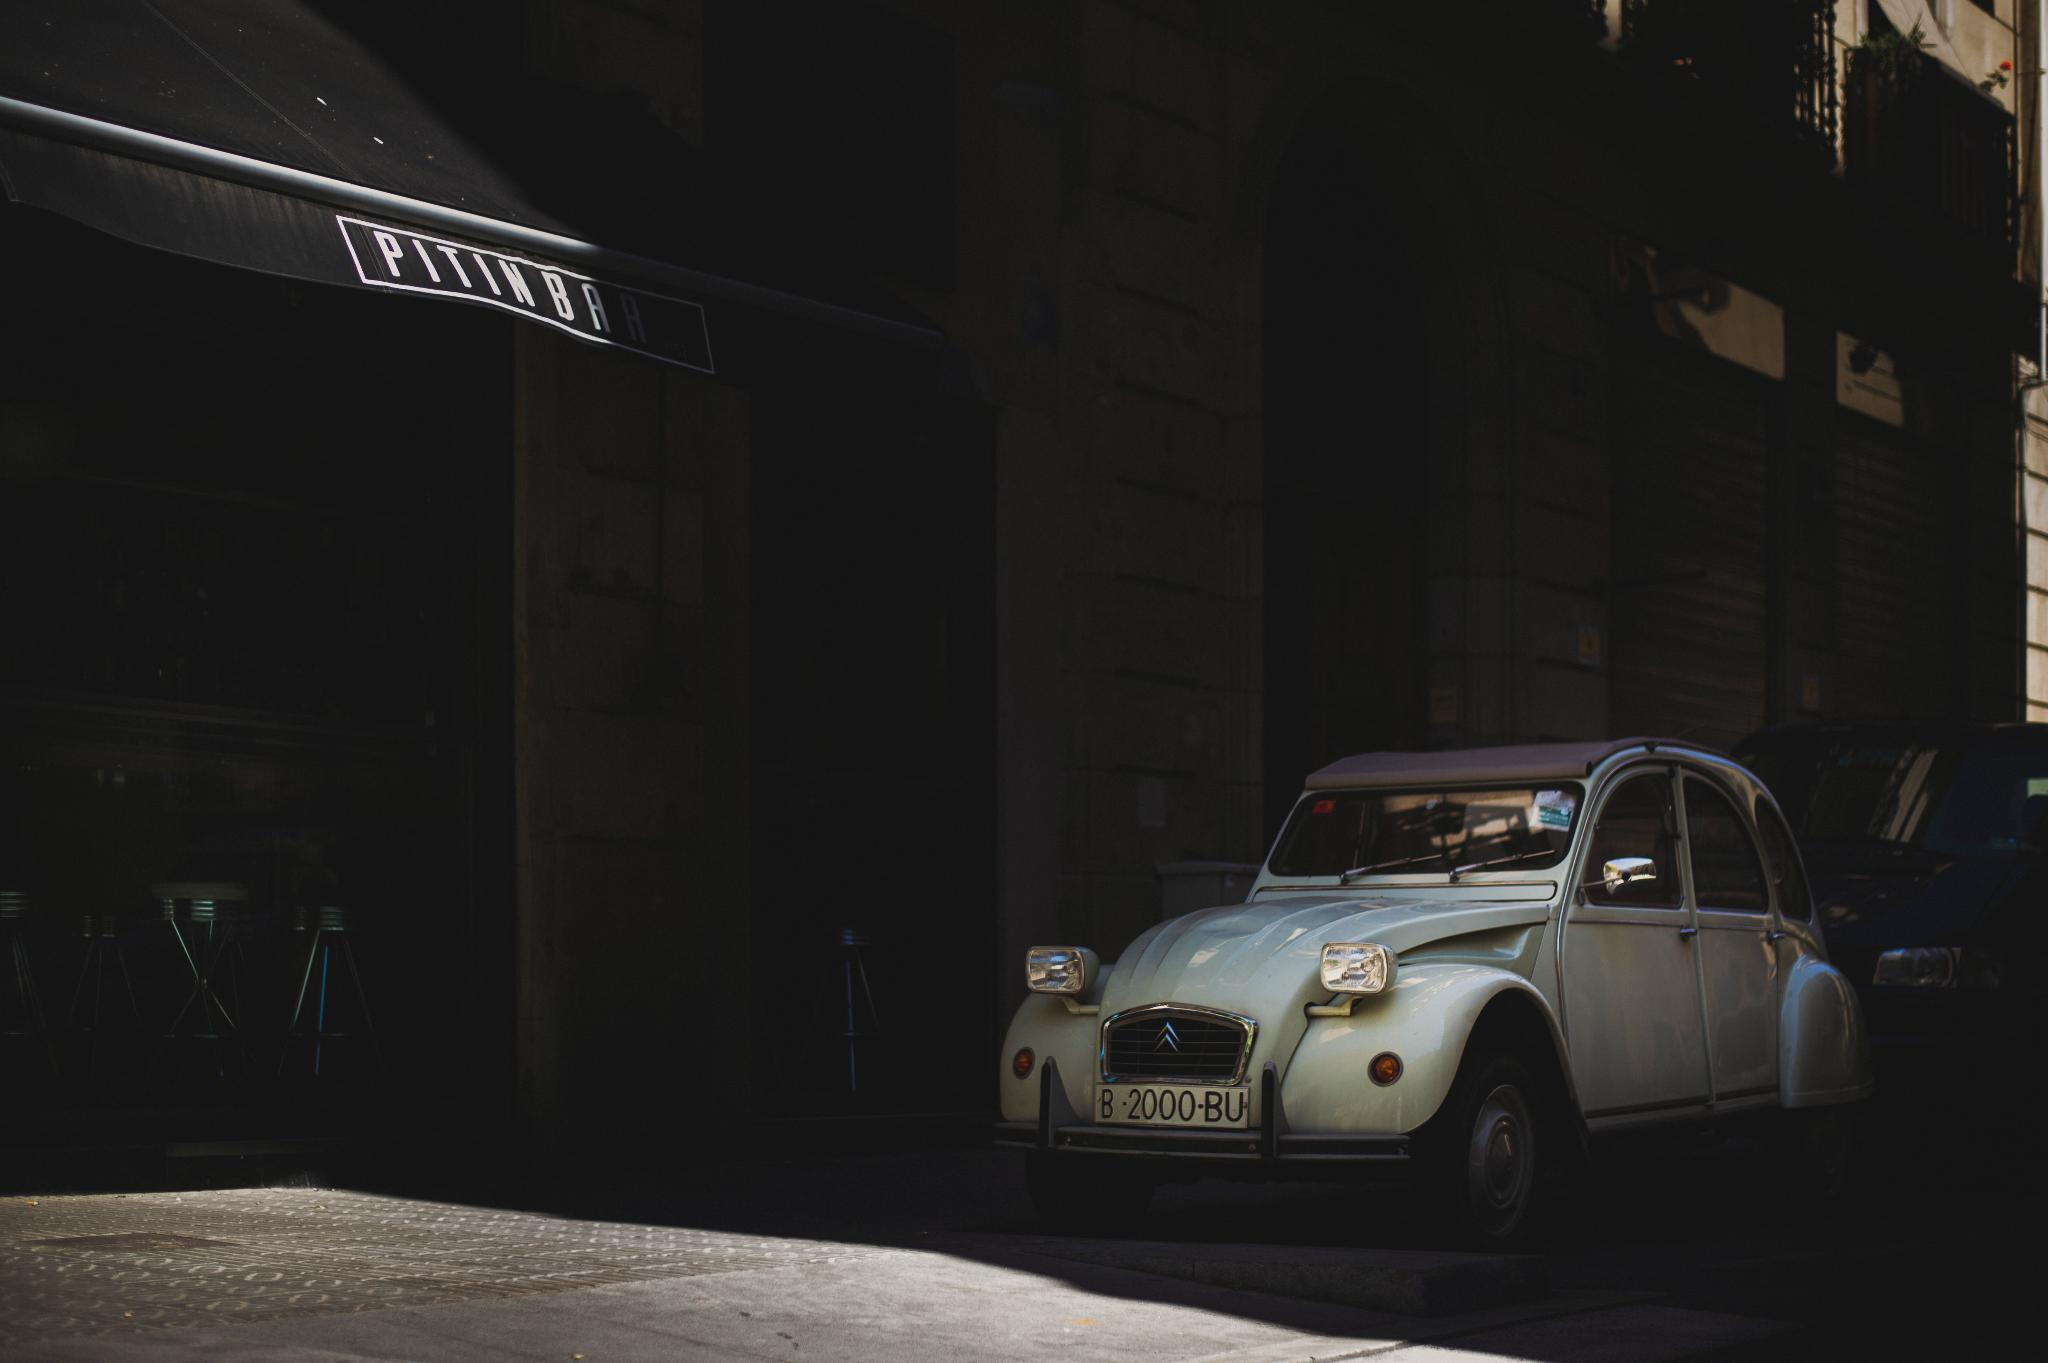Citroen: (1136, 1009, 1203, 1068)
